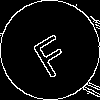F: (25, 25, 75, 80)
